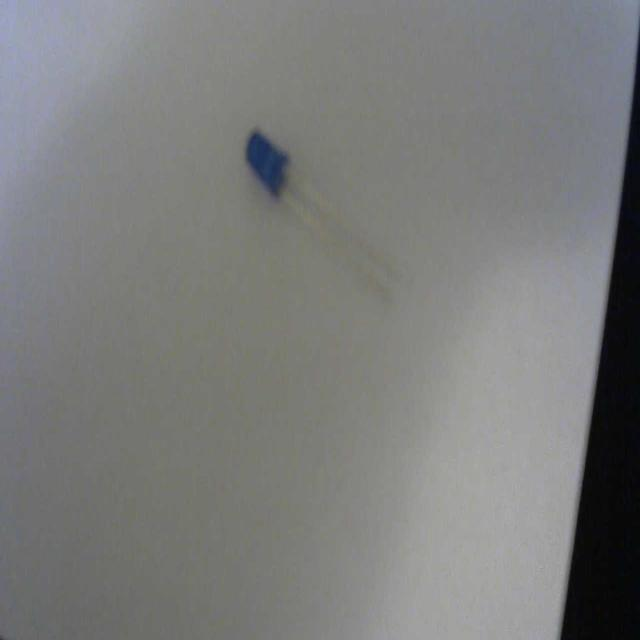blue_led: (245, 129, 289, 200)
